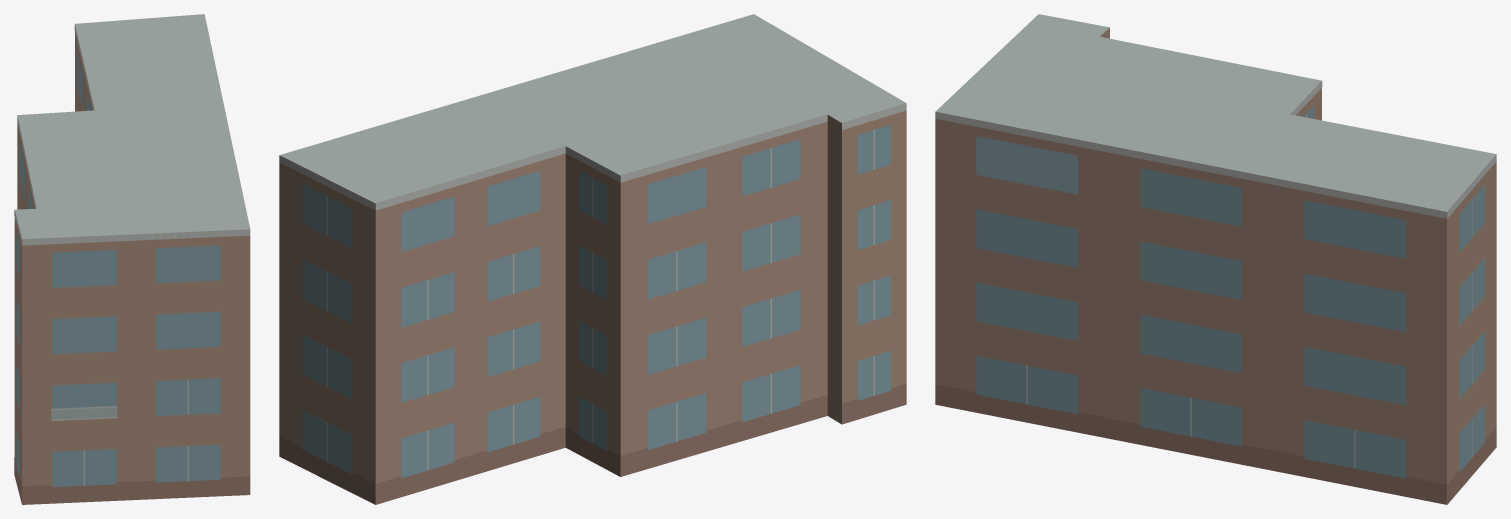
The model's file is survey-upis-33015734.glb.
The picture shows the model from 3 angles, left to right: view 1: azimuth 30°, elevation 25°; view 2: azimuth 150°, elevation 25°; view 3: azimuth 270°, elevation 25°; orthographic projection. The views are drawn at different scales.
Visible parts, largest first — view 1: survey-upis-33015734.tmp; view 2: survey-upis-33015734.tmp; view 3: survey-upis-33015734.tmp.
Boxes of the visible parts, box(x1,y1,x2,y2) form: survey-upis-33015734.tmp: box(14, 14, 250, 504); survey-upis-33015734.tmp: box(279, 14, 906, 504); survey-upis-33015734.tmp: box(935, 14, 1496, 504).
Bounding box in the file's own units: 14.86 × 10.25 × 17.81.
